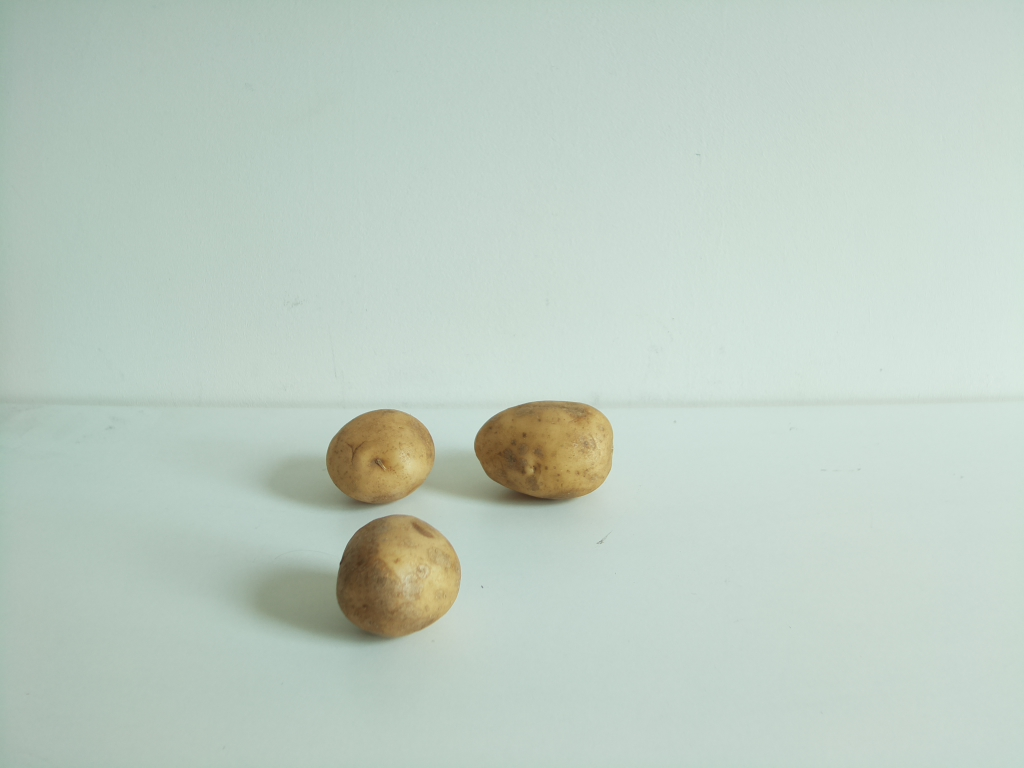potatoes: (470, 398, 615, 508), (338, 512, 461, 638), (329, 410, 431, 510)
